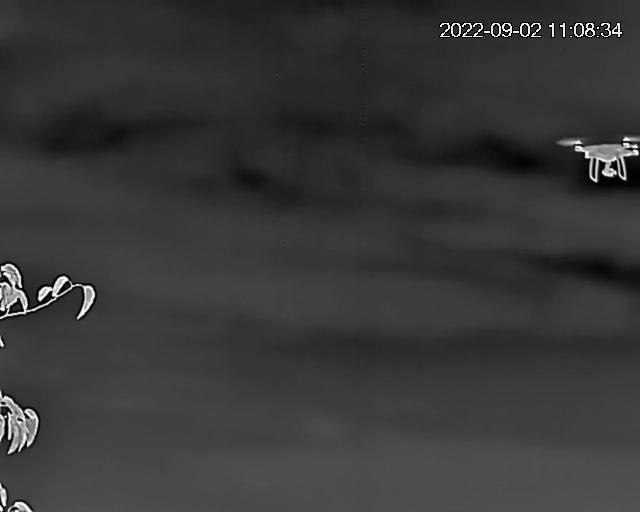DJI-Phantom: (555, 134, 640, 185)
